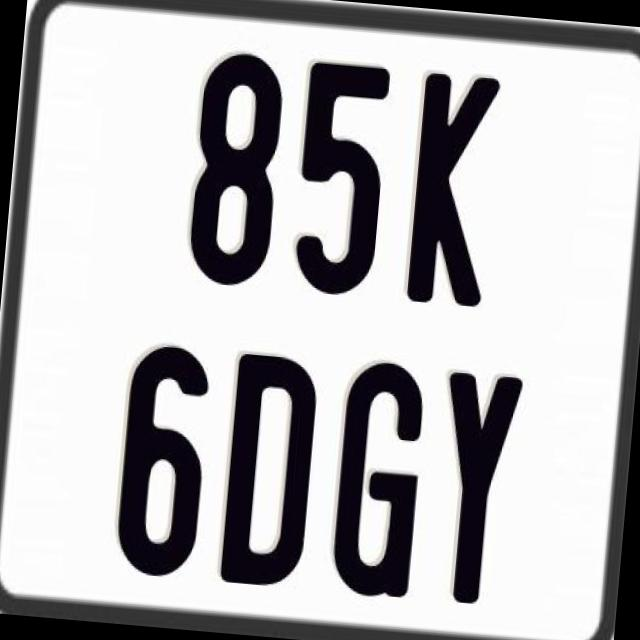5: (287, 55, 395, 294)
6: (111, 340, 211, 585)
8: (184, 46, 288, 288)
D: (218, 348, 320, 583)
G: (327, 359, 426, 607)
K: (403, 70, 501, 310)
Y: (426, 366, 524, 601)
